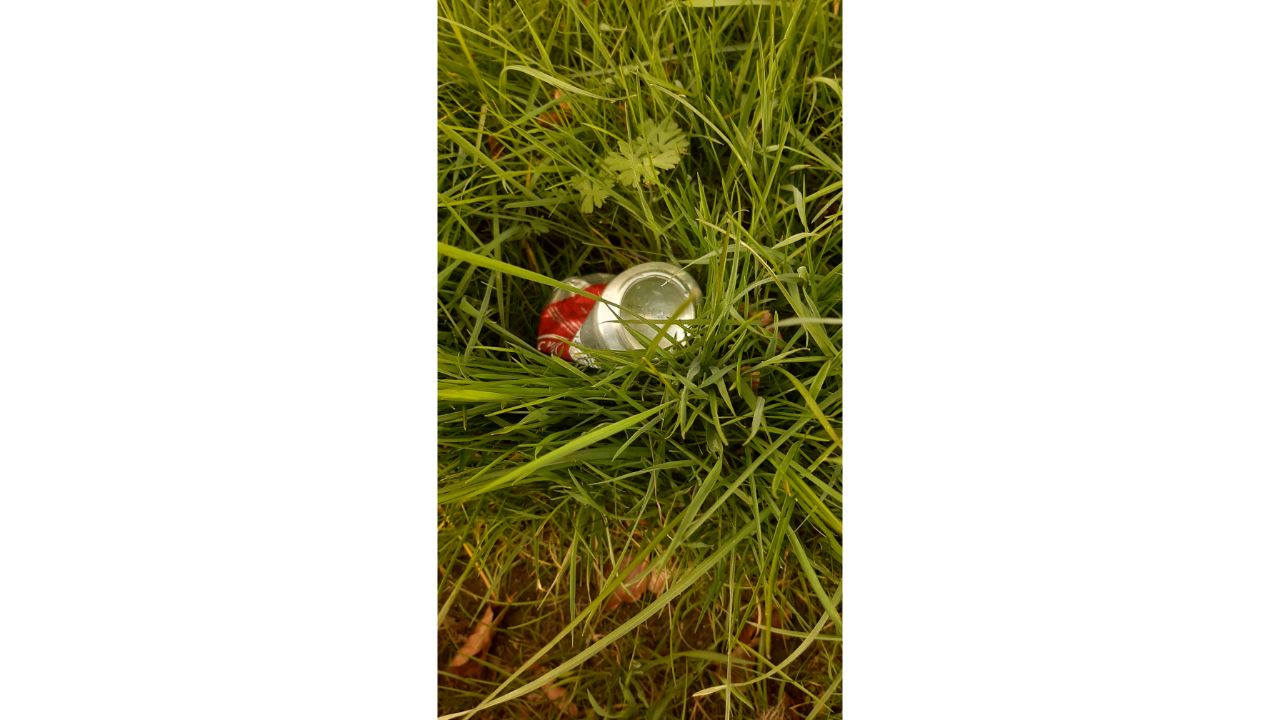Can: (523, 251, 714, 376)
